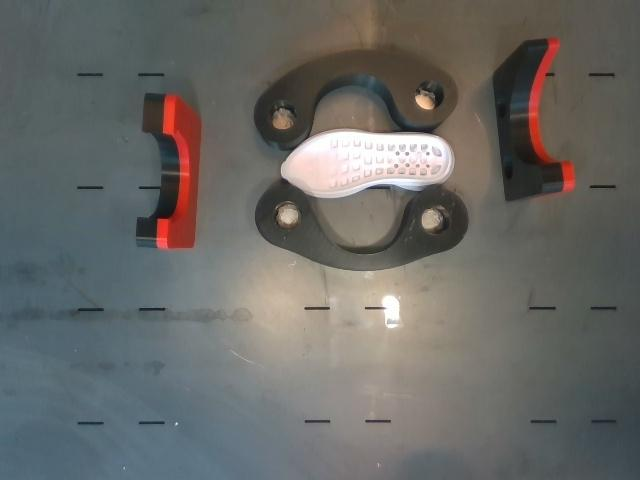shoes: (282, 133, 450, 192)
